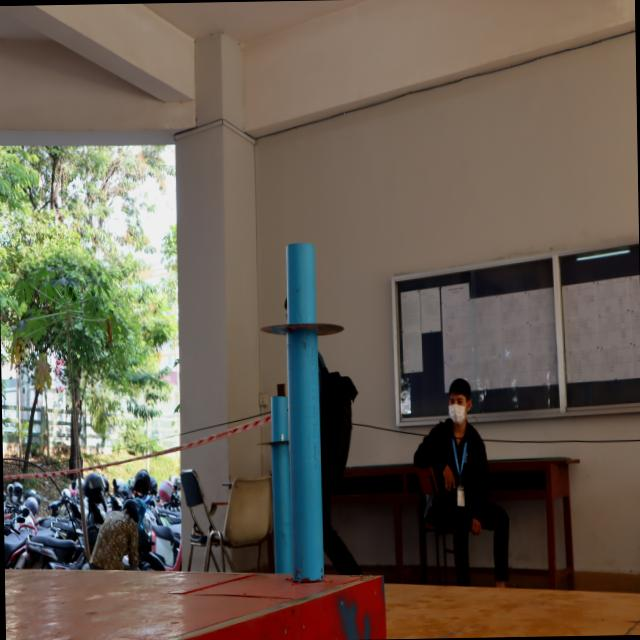pole: (258, 237, 352, 393), (253, 391, 298, 464)
